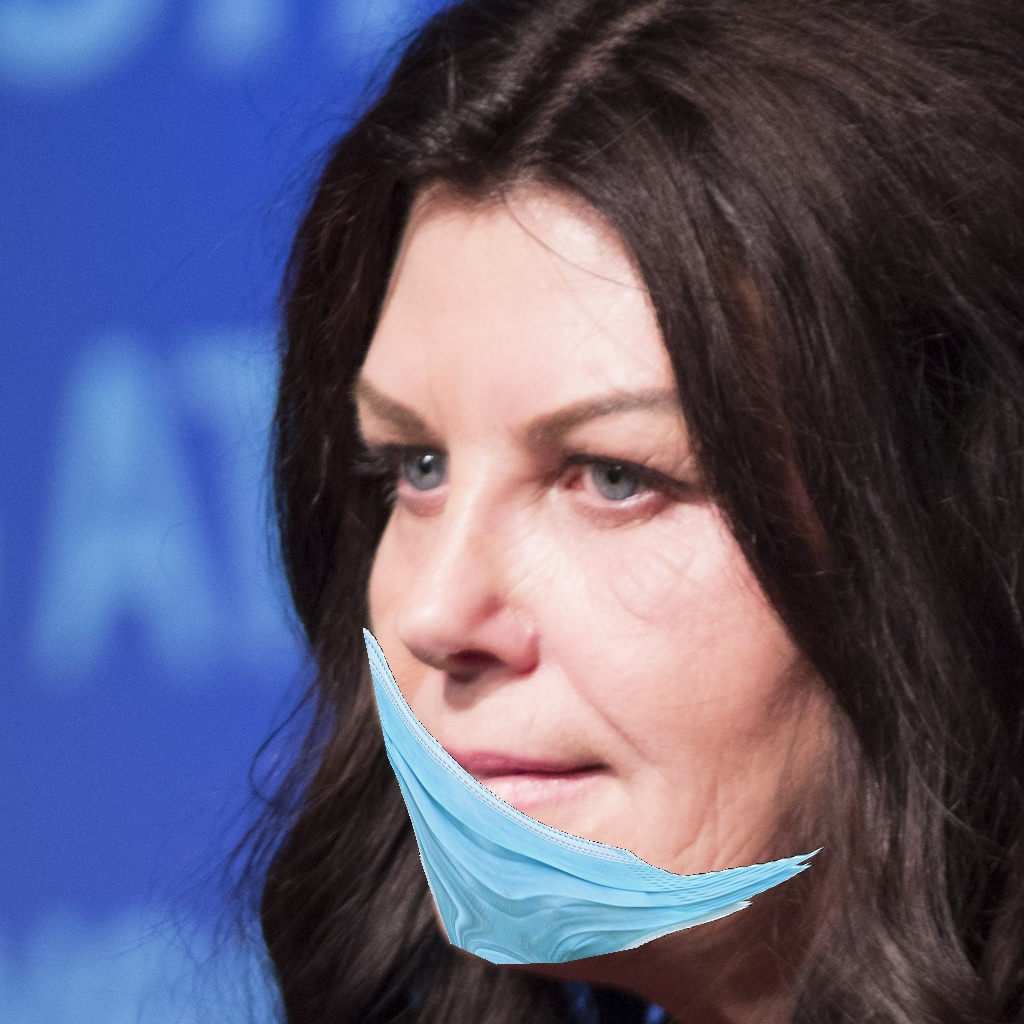mascarilla_mal_puesta: (277, 328, 934, 963)
